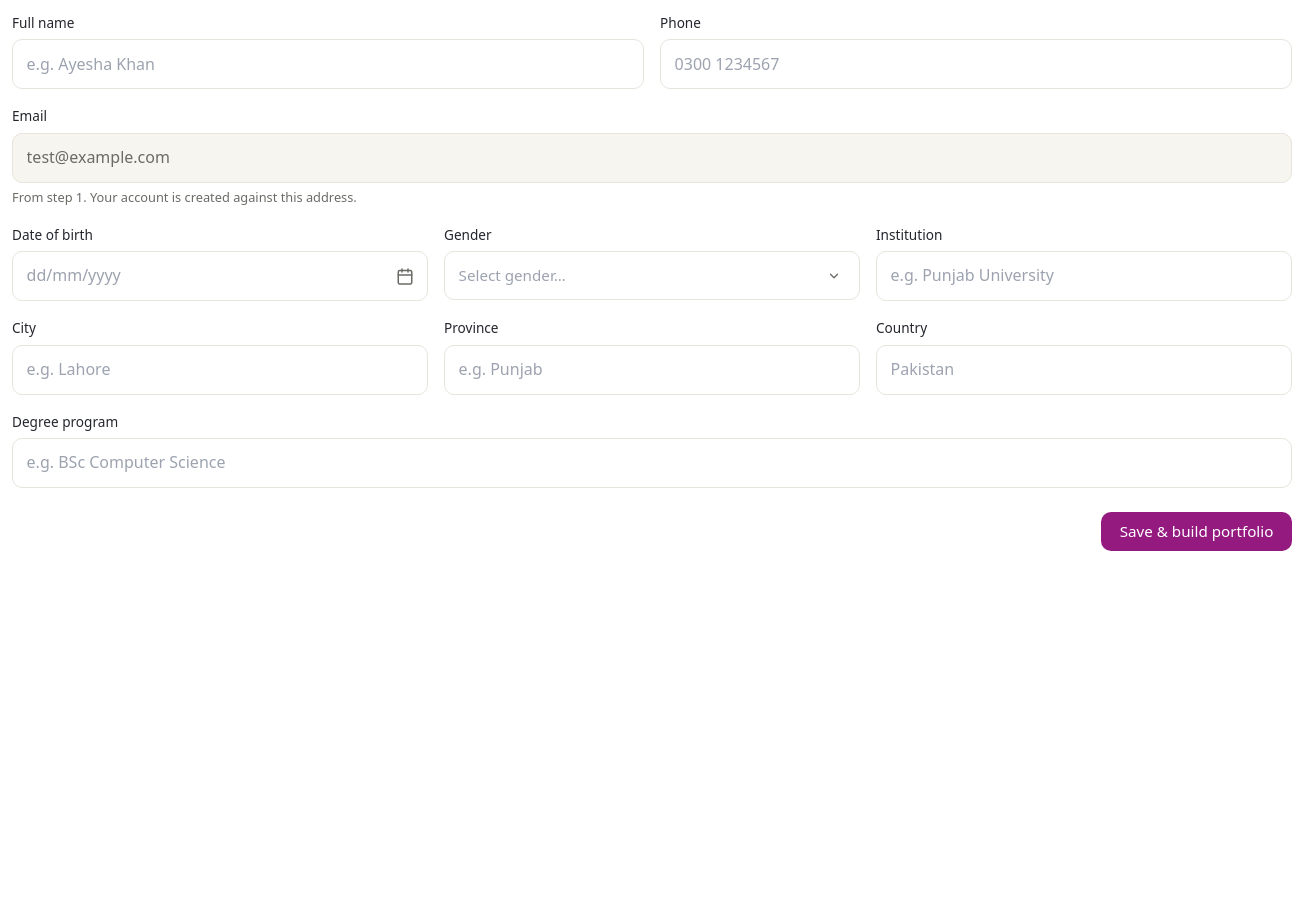
Test case: RegisterForm › shows guardian fields for a minor DOB
Type "2015-01-01" into the field labelled "Date of birth" at (220, 276), box [12,251,428,301]
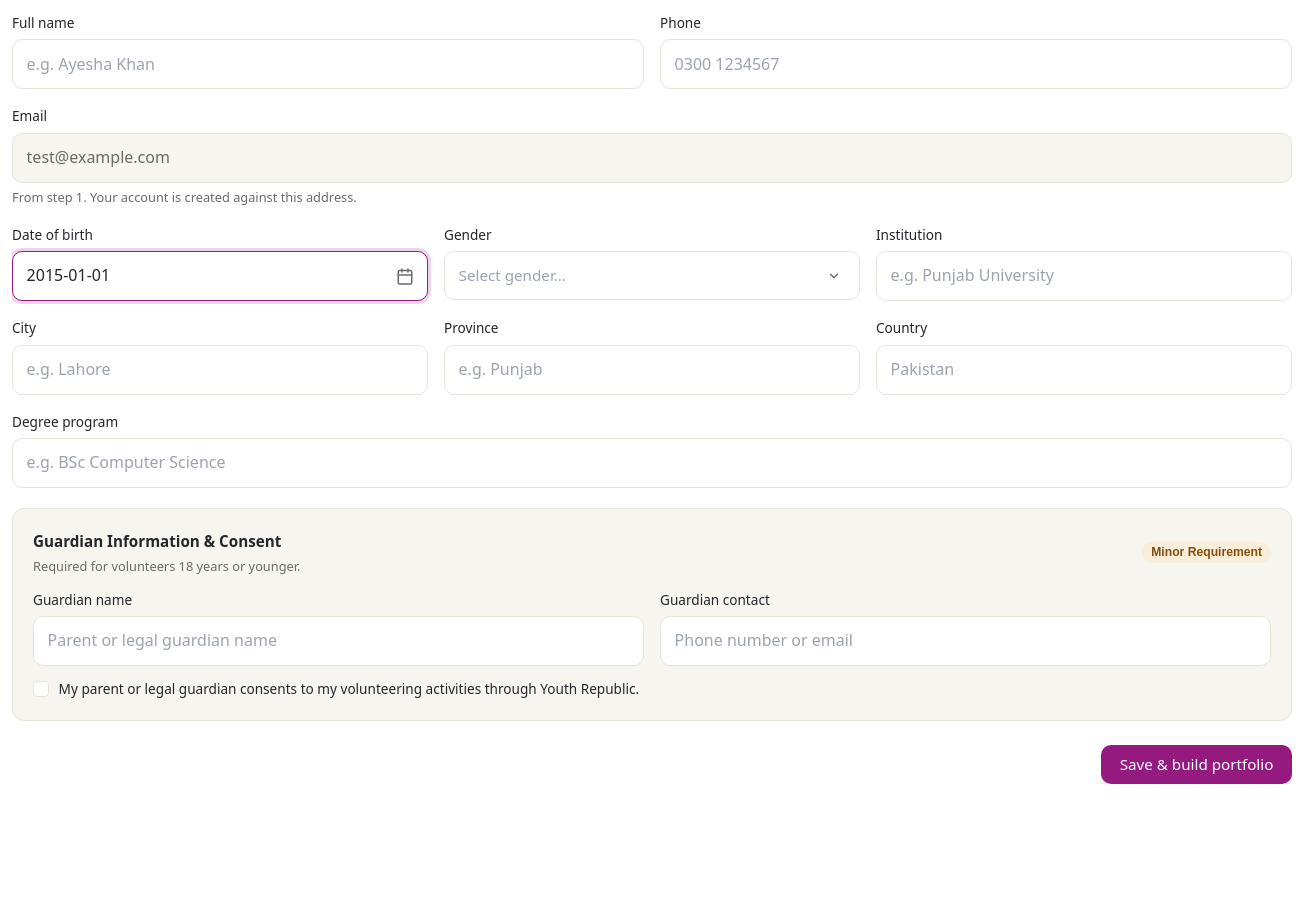
Result: the field labelled "Guardian name" is shown at [33,616,644,666]
